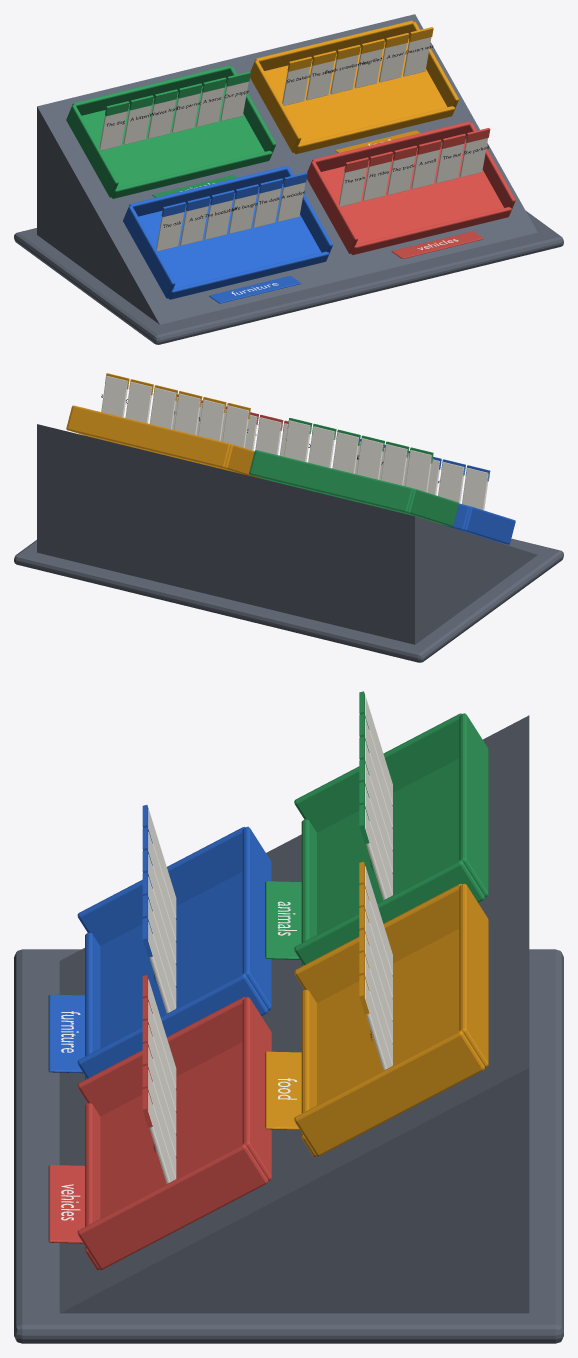
Rendered from library.glb.
3 renders of one model, top to bottom at view 1: azimuth 30°, elevation 25°; view 2: azimuth 150°, elevation 25°; view 3: azimuth 270°, elevation 25°, orthographic. The views are drawn at different scales.
Parts seen in each view (by area): view 1: slope, floor, floor.002, floor.003, floor.001, stand, topic_p.003, topic_p.002, t.011, t.023, t.018, t.010 (+20 smaller); view 2: slope, stand, floor, floor.001, floor.002, t.012, t, t.008, t.007, t.001, t.005, t.006 (+8 smaller); view 3: slope, stand, floor.001, floor.003, floor, floor.002, topic_p.001, topic_p.003, topic_p, topic_p.002, t.017, t.023 (+1 smaller).
Boxes of the visible parts, x1,y1,x2,y2 form: slope: (37,14,537,324); floor: (66,65,276,198); floor.002: (123,166,332,299); floor.003: (307,121,515,254); floor.001: (250,20,458,154); stand: (14,211,563,344); topic_p.003: (391,231,483,258); topic_p.002: (209,275,300,303); t.011: (403,35,431,76); t.023: (459,136,487,177); t.018: (339,165,366,206); t.010: (378,41,406,82); slope: (37,424,537,644); stand: (14,538,563,662); floor: (249,450,458,526); floor.001: (66,405,265,479); floor.002: (443,503,515,544); t.012: (462,468,489,510); t: (405,450,432,492); t.008: (174,393,201,434); t.007: (198,399,225,441); t.001: (381,444,408,485); t.005: (284,420,311,461); t.006: (222,405,248,447); slope: (59,715,529,1313); stand: (14,949,563,1343); floor.001: (294,883,488,1156); floor.003: (77,997,271,1269); floor: (294,713,488,966); floor.002: (77,826,271,1079); topic_p.001: (265,1051,301,1130); topic_p.003: (48,1165,84,1243); topic_p: (265,881,301,959); topic_p.002: (48,994,84,1073); t.017: (148,922,175,1013); t.023: (148,1092,175,1183).
Size of the model in its own units: 1.3 by 0.4965 by 0.7914.
